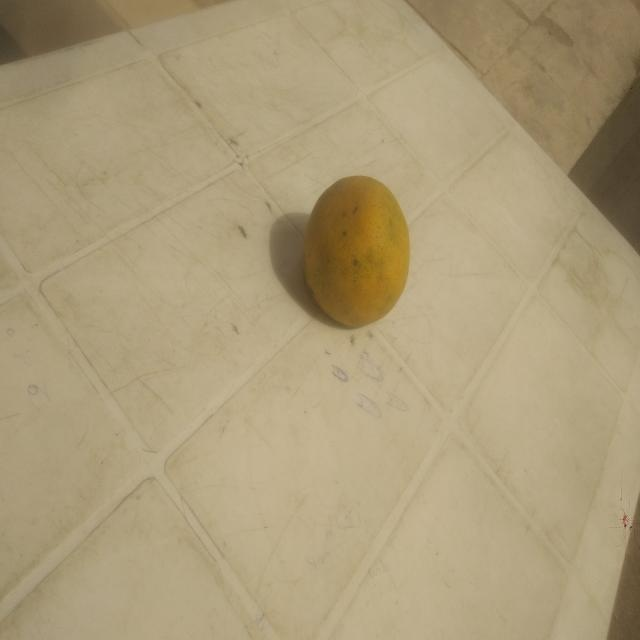agrume: (292, 144, 414, 359)
